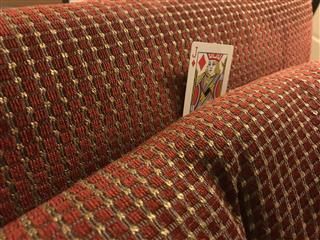JackOfDiamonds: (182, 40, 234, 116)
